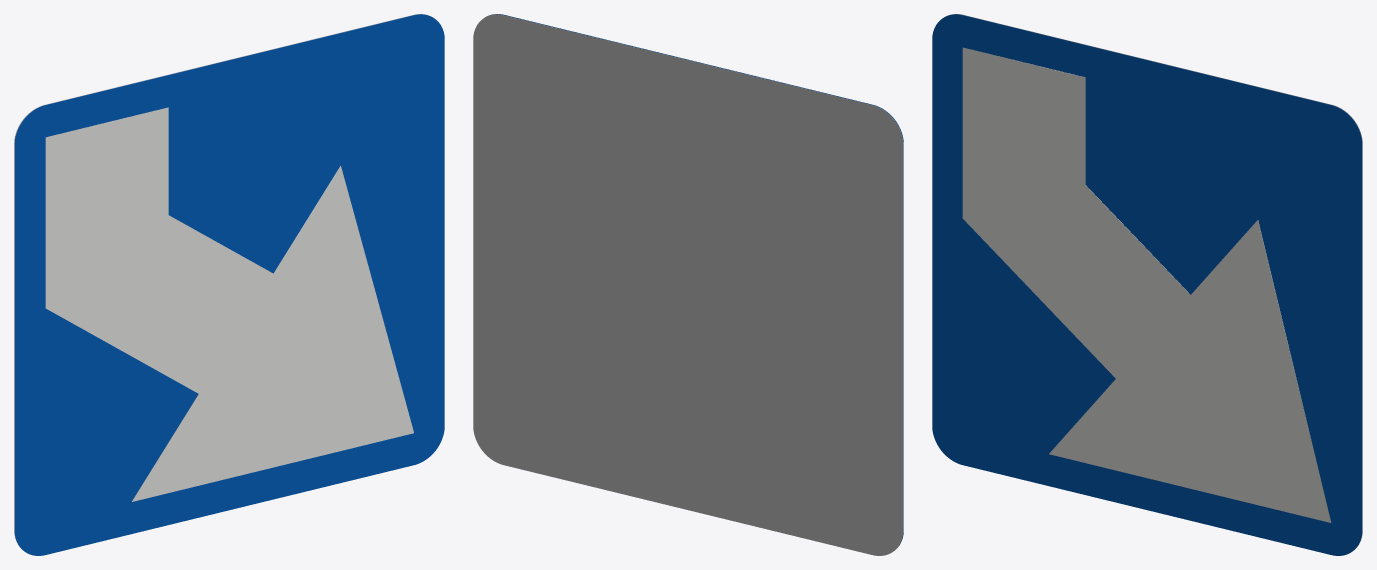
The picture shows the model from 3 angles, left to right: view 1: azimuth 30°, elevation 25°; view 2: azimuth 150°, elevation 25°; view 3: azimuth 330°, elevation 25°; orthographic projection.
Parts seen in each view (by area): view 1: J5_p00, J5_p01, J5_dos; view 2: J5_dos, J5_p00; view 3: J5_p00, J5_p01, J5_dos.
Part boxes in pixels (x1,y1,x2,y2): J5_p00: [14, 14, 444, 555]; J5_p01: [45, 107, 413, 501]; J5_dos: [14, 14, 431, 547]; J5_dos: [473, 14, 903, 555]; J5_p00: [486, 14, 903, 547]; J5_p00: [932, 14, 1362, 555]; J5_p01: [962, 47, 1331, 522]; J5_dos: [945, 14, 1362, 547].
Size of the model in its own units: 0.7 by 0.6999 by 0.0023.
